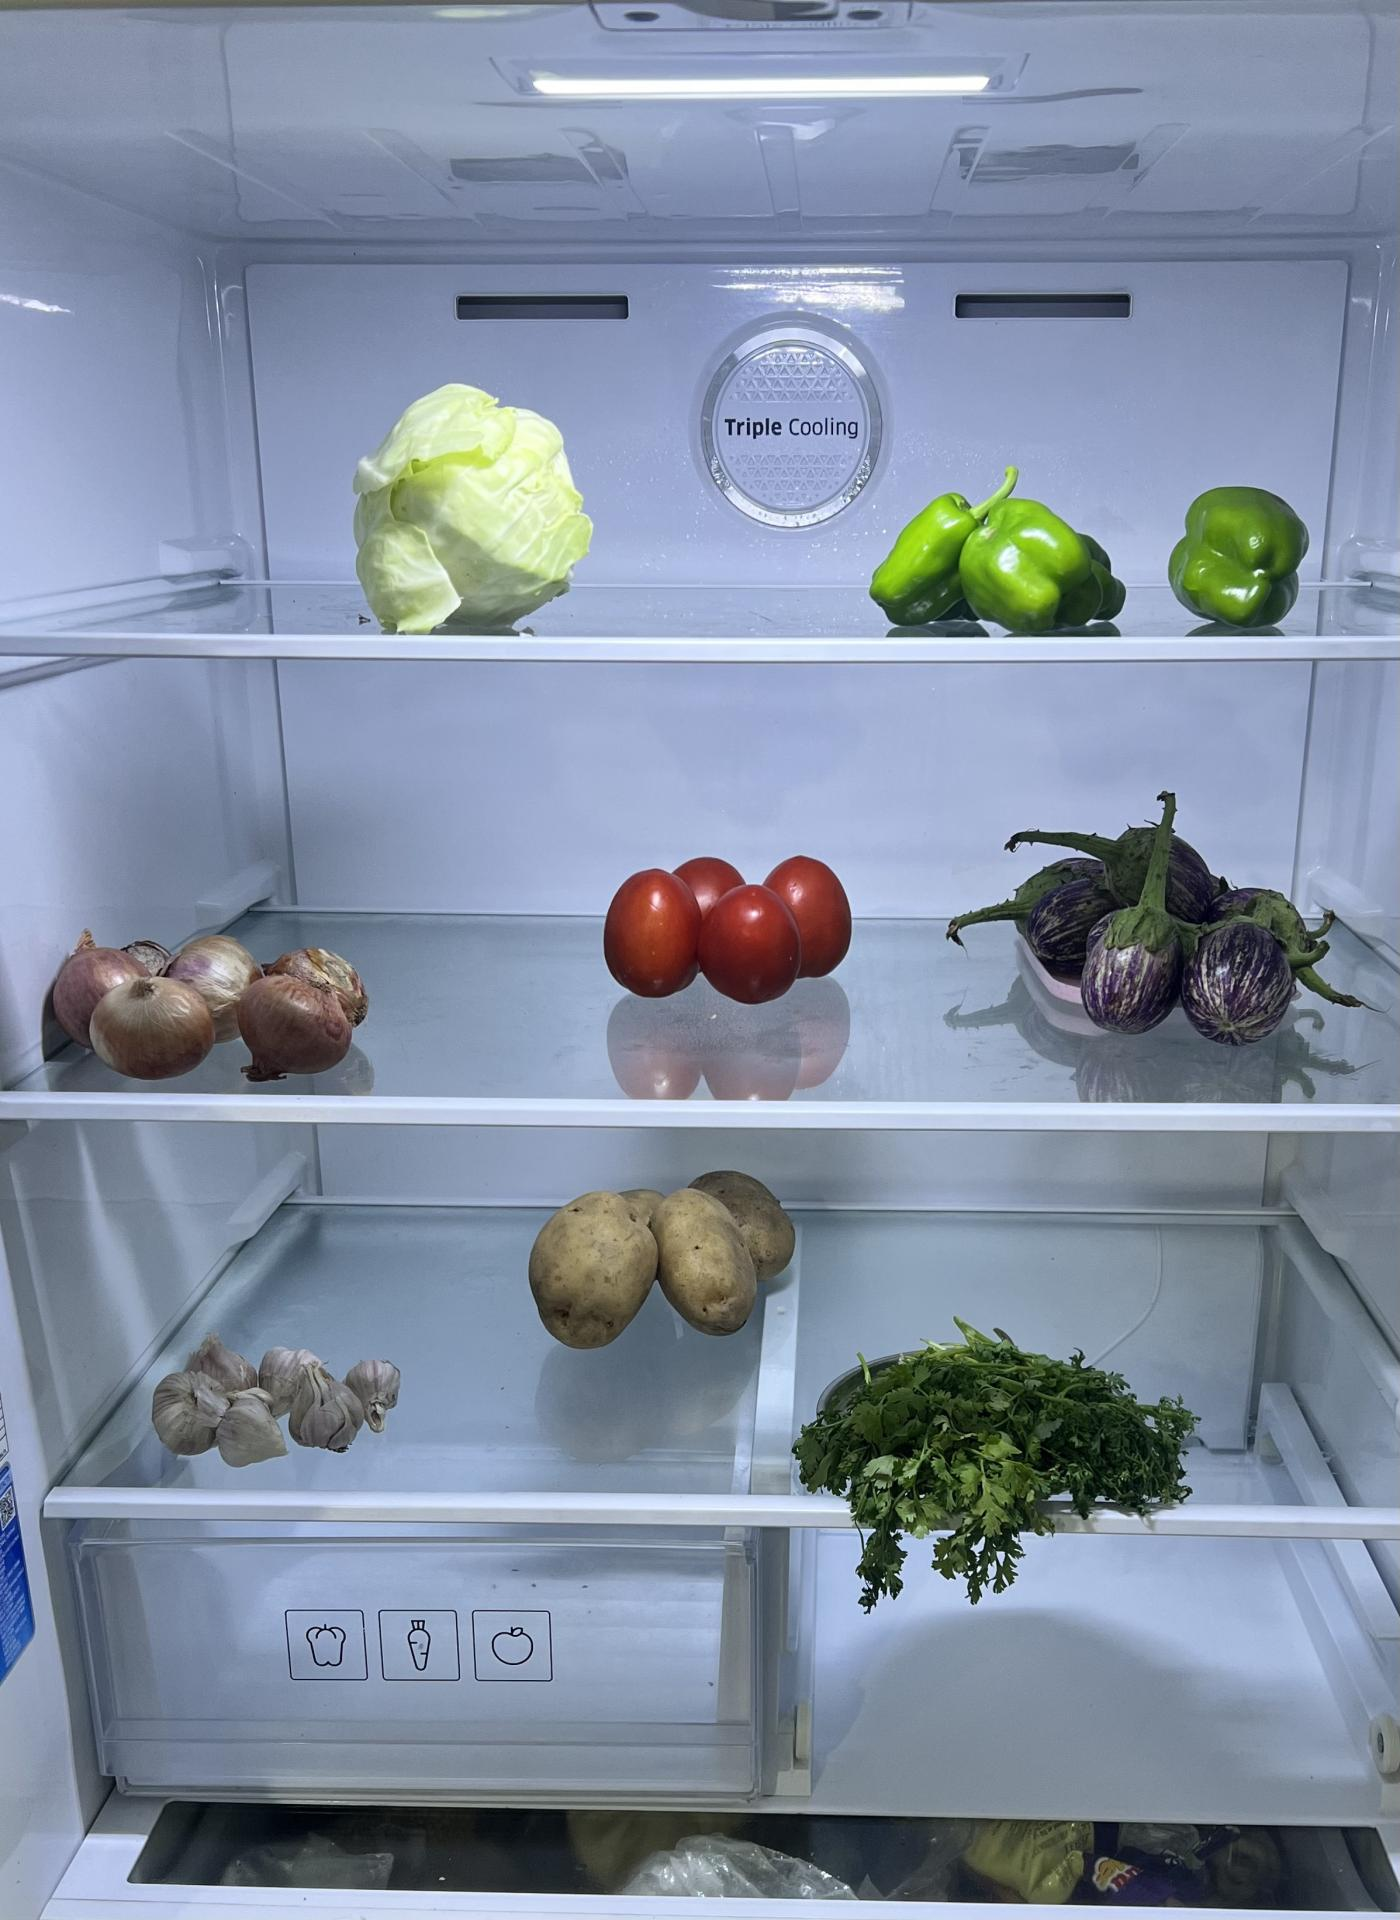brinjal: (1024, 814, 1312, 1066)
cabbage: (349, 380, 590, 631)
capsicum: (863, 477, 1123, 638), (1169, 477, 1312, 625)
coriander: (804, 1339, 1200, 1544)
garlic: (151, 1339, 404, 1468)
onion: (45, 926, 377, 1084)
potato: (523, 1167, 796, 1348)
tomato: (607, 856, 863, 1012)
